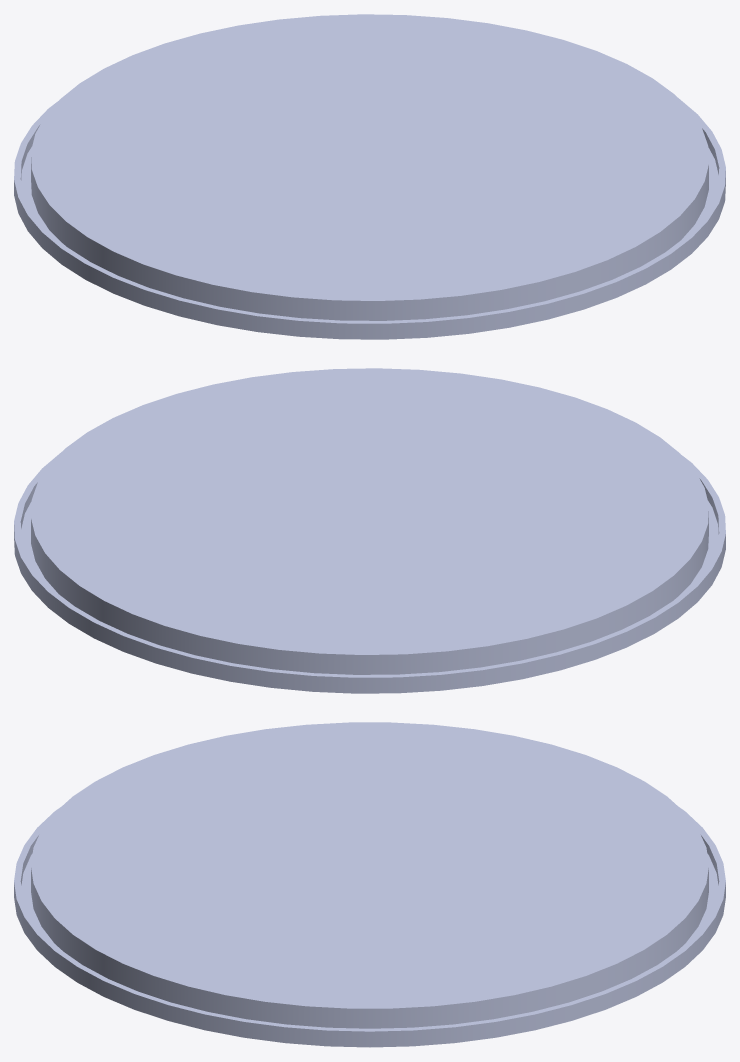
Rendered from 100_fondo_sel.glb.
3 renders of one model, top to bottom at view 1: azimuth 30°, elevation 25°; view 2: azimuth 150°, elevation 25°; view 3: azimuth 270°, elevation 25°, orthographic.
Visible parts, largest first — view 1: FONDO SELLADO METAL 100; view 2: FONDO SELLADO METAL 100; view 3: FONDO SELLADO METAL 100.
Part boxes in pixels (x1=…): FONDO SELLADO METAL 100: x1=14, y1=14, x2=725, y2=339; FONDO SELLADO METAL 100: x1=14, y1=368, x2=725, y2=693; FONDO SELLADO METAL 100: x1=14, y1=722, x2=725, y2=1047.
Bounding box in the file's own units: 0.1056 × 0.00516 × 0.1056.
